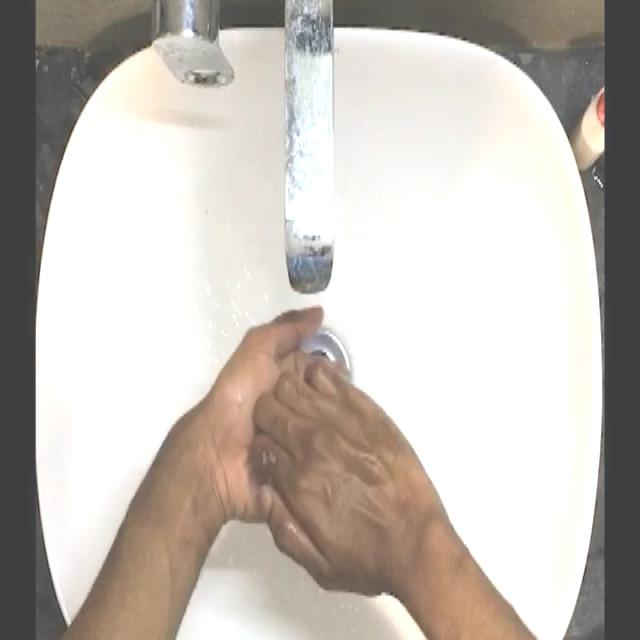step_4: (211, 292, 416, 600)
